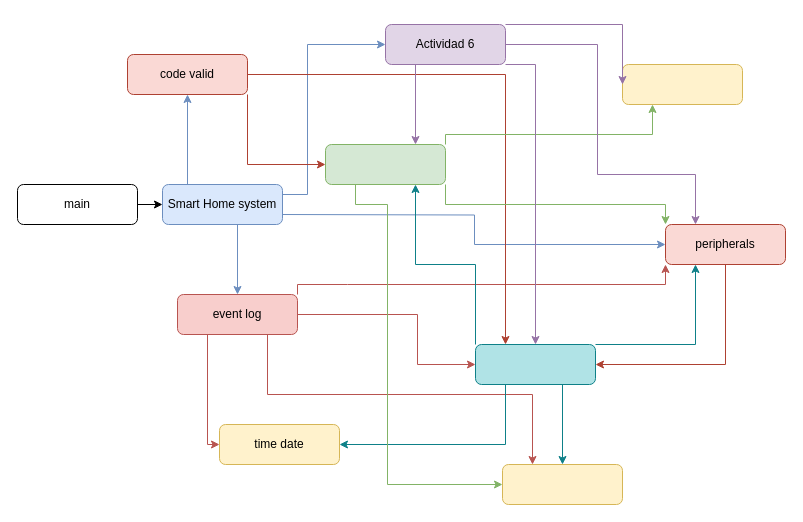
The diagram is 803 pixels wide and 522 high, and some of its shapes have lost their labels. The box of each missing label's shape, as (x1, y1, x2, y2) in pixels:
code: (502, 464, 622, 504)
keypad: (622, 64, 742, 104)
pcSerial: (474, 344, 596, 384)
User interface: (324, 144, 446, 184)
